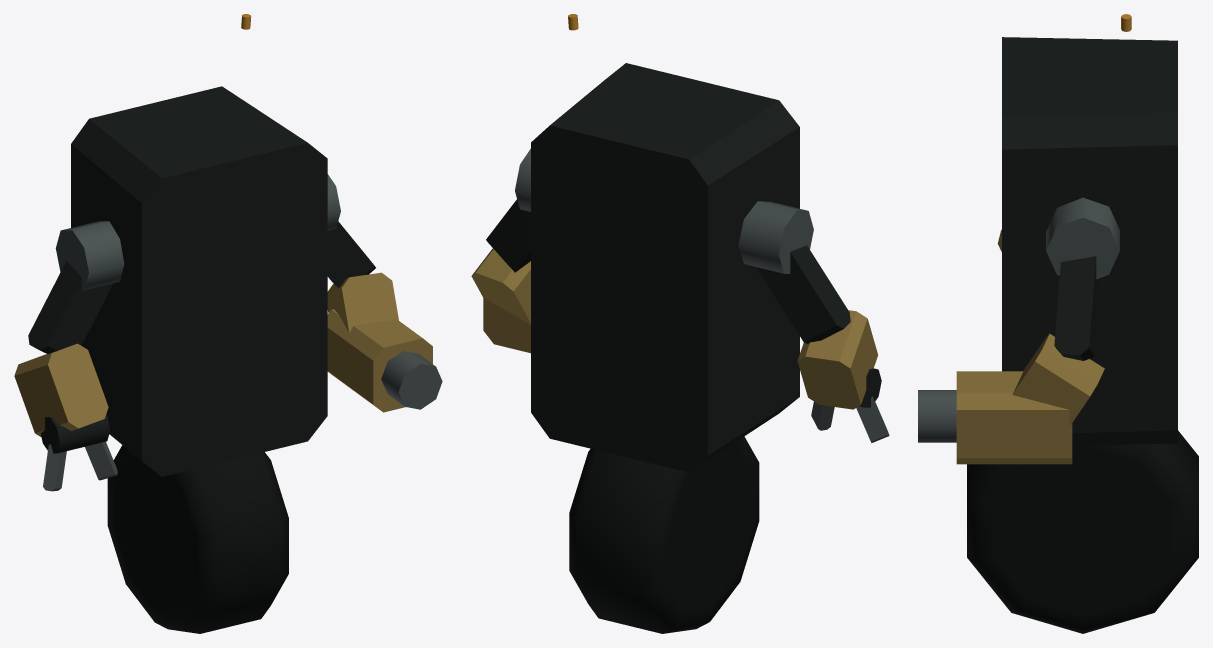
Rendered from KLONKBOT.shadow.glb.
3 views of the same model, side by side, from view 1: azimuth 30°, elevation 25°; view 2: azimuth 150°, elevation 25°; view 3: azimuth 270°, elevation 25° (orthographic). The views are drawn at different scales.
Parts seen in each view (by area): view 1: body_geometry, wheel_geometry, armL_geometry, armR_geometry; view 2: body_geometry, wheel_geometry, armL_geometry, armR_geometry; view 3: body_geometry, wheel_geometry, armR_geometry.
Part boxes in pixels (left/top/right/bottom): body_geometry: left=71, top=14, right=327, bottom=476; wheel_geometry: left=107, top=445, right=288, bottom=633; armL_geometry: left=14, top=221, right=124, bottom=491; armR_geometry: left=327, top=174, right=442, bottom=412; body_geometry: left=531, top=14, right=799, bottom=472; wheel_geometry: left=569, top=436, right=759, bottom=633; armL_geometry: left=738, top=201, right=889, bottom=442; armR_geometry: left=471, top=148, right=530, bottom=353; body_geometry: left=1002, top=14, right=1177, bottom=445; wheel_geometry: left=967, top=430, right=1198, bottom=633; armR_geometry: left=918, top=197, right=1119, bottom=464.
Size of the model in its own units: 0.7979 by 1.2 by 0.4793.
Materials: 1 (1 with a texture image).
